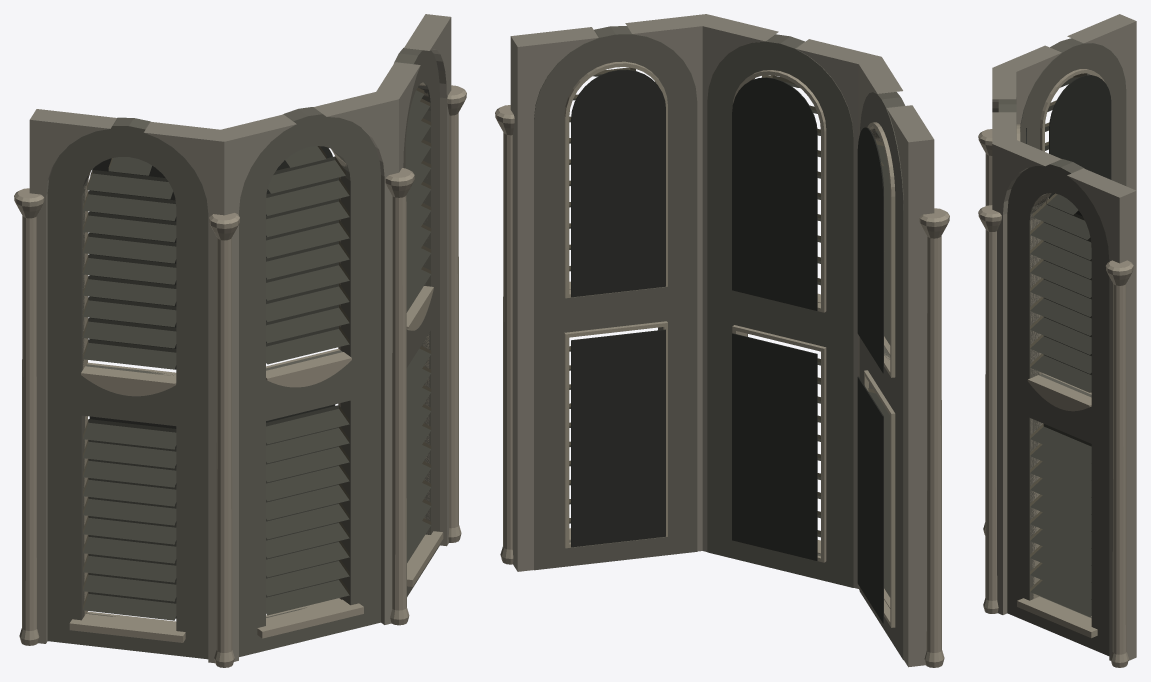
File: yangpu-sacred-heart-octagonal-belfry-louvres-lod.glb
The picture shows the model from 3 angles, left to right: view 1: azimuth 30°, elevation 25°; view 2: azimuth 150°, elevation 25°; view 3: azimuth 270°, elevation 25°; orthographic projection. The views are drawn at different scales.
Visible parts, largest first — view 1: 圣心教堂八角钟楼三面双层百叶窗; view 2: 圣心教堂八角钟楼三面双层百叶窗; view 3: 圣心教堂八角钟楼三面双层百叶窗.
Boxes of the visible parts, x1=… form: 圣心教堂八角钟楼三面双层百叶窗: x1=14, y1=14, x2=466, y2=667; 圣心教堂八角钟楼三面双层百叶窗: x1=495, y1=14, x2=949, y2=667; 圣心教堂八角钟楼三面双层百叶窗: x1=978, y1=14, x2=1136, y2=667.
Size of the model in its own units: 4.47 by 4.99 by 1.53.
